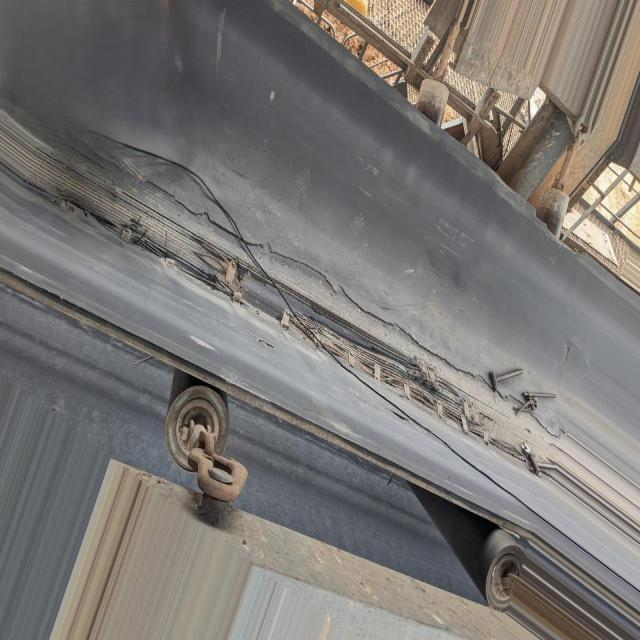Tear: (128, 182, 554, 476)
